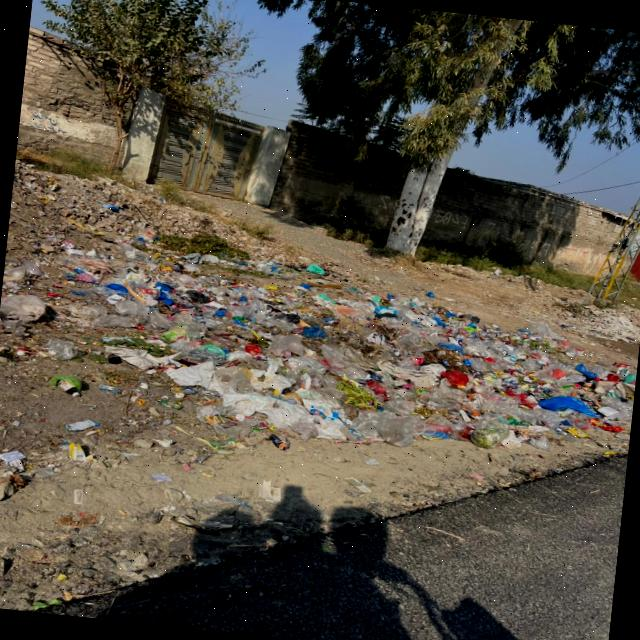garbage: (102, 262, 628, 460)
